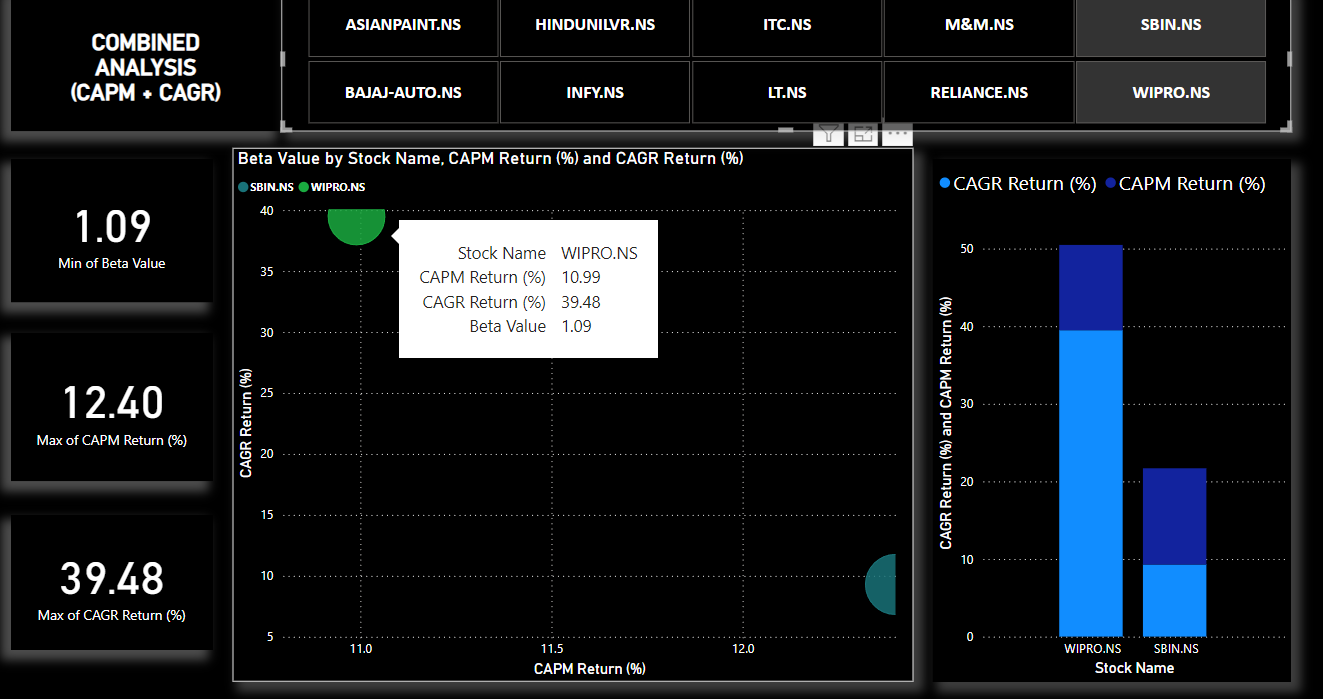

The dashboard page shown, as its layout file describes it:
{"tool":"powerbi","page":{"name":"Combined Analysis","canvas":[1280,720],"ordinal":2},"visuals":[{"type":"textbox","box":[11.3,27.4,259.7,138.7],"z":0},{"type":"slicer","fields":{"Values":["Analysis.Stock Name"]},"box":[271.1,26.9,974.7,139.2],"z":1000},{"type":"card","fields":{"Values":["Min(Analysis.Beta Value)"]},"box":[11,193,194.2,138],"z":2000},{"type":"card","fields":{"Values":["Max(Analysis.CAPM Return (%))"]},"box":[11,360.3,194.2,142.9],"z":3000},{"type":"card","fields":{"Values":["Max(Analysis.CAGR Return (%))"]},"box":[11,537.4,194.2,129.5],"z":4000},{"type":"scatterChart","fields":{"X":["Analysis.CAPM Return (%)"],"Y":["Analysis.CAGR Return (%)"],"Series":["Analysis.Stock Name"],"Size":["Sum(Analysis.Beta Value)"]},"box":[224.7,182,657.1,515.4],"z":5000},{"type":"lineStackedColumnComboChart","fields":{"Category":["Analysis.Stock Name"],"Y":["Sum(Analysis.CAGR Return (%))","Sum(Analysis.CAPM Return (%))"]},"box":[900.2,193,345.6,504.4],"z":5001}]}

Visuals, with their boxes on the page's 1280x720 design canvas (x1, y1, x2, y2). These are canvas units, not pixel positions in the 1323x699 screenshot, which may show the page scaled, cropped or inside an application window:
textbox: [x1=11, y1=27, x2=271, y2=166]
slicer - Analysis.Stock Name: [x1=271, y1=27, x2=1246, y2=166]
card - Min(Analysis.Beta Value): [x1=11, y1=193, x2=205, y2=331]
card - Max(Analysis.CAPM Return (%)): [x1=11, y1=360, x2=205, y2=503]
card - Max(Analysis.CAGR Return (%)): [x1=11, y1=537, x2=205, y2=667]
scatterChart - Analysis.CAPM Return (%) x Analysis.CAGR Return (%): [x1=225, y1=182, x2=882, y2=697]
lineStackedColumnComboChart - Analysis.Stock Name x Sum(Analysis.CAGR Return (%)): [x1=900, y1=193, x2=1246, y2=697]
